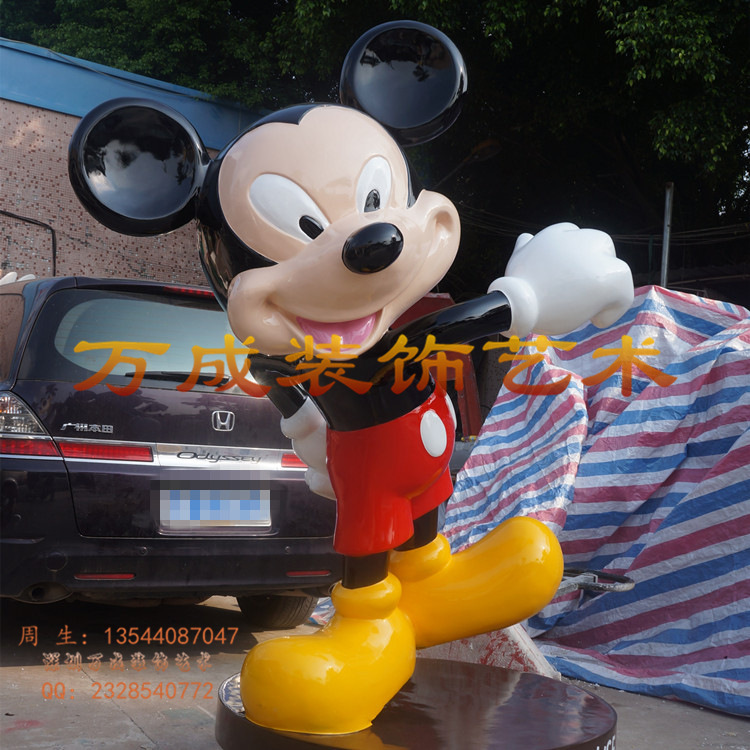Mickey: (64, 17, 471, 368)
